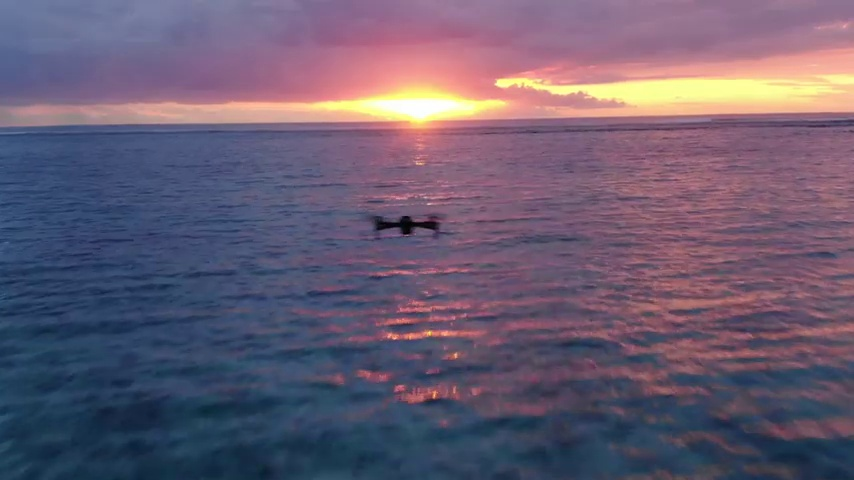drone: (373, 214, 441, 238)
